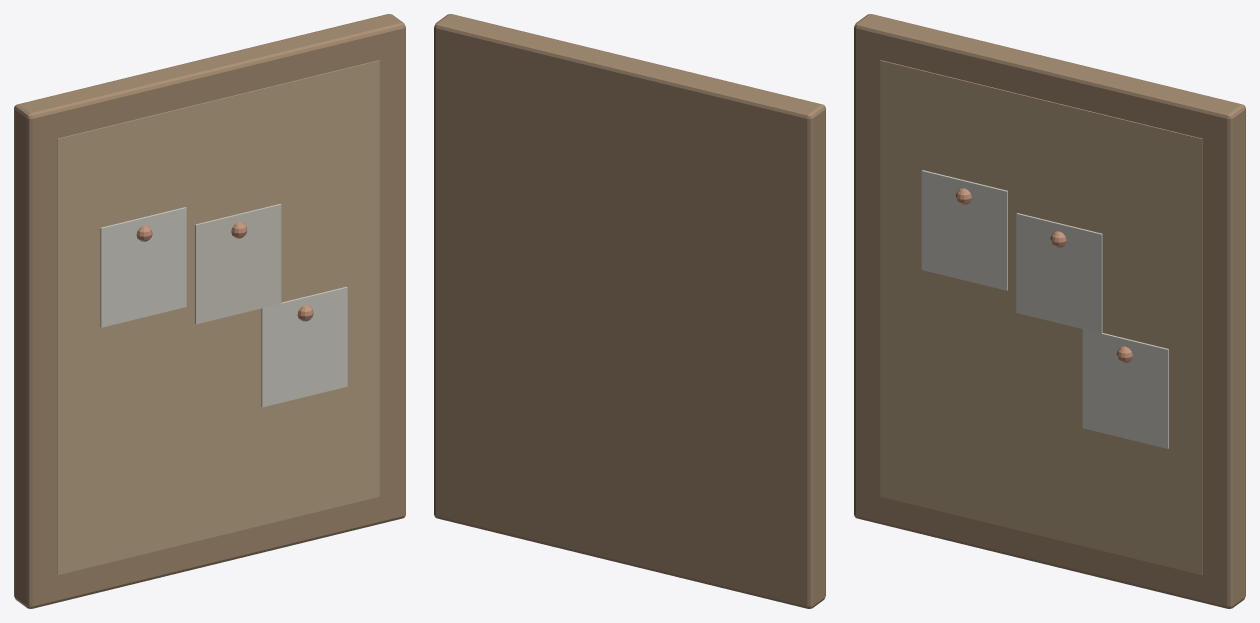
The model's file is office_quadro_avisos_coz.glb.
3 renders of one model, left to right at view 1: azimuth 30°, elevation 25°; view 2: azimuth 150°, elevation 25°; view 3: azimuth 330°, elevation 25°, orthographic.
Visible parts, largest first — view 1: OFFICE_QuadroAvisosCoz_Cortica, OFFICE_QuadroAvisosCoz_Moldura, OFFICE_QuadroAvisosCoz_Bilhete0, OFFICE_QuadroAvisosCoz_Bilhete1, OFFICE_QuadroAvisosCoz_Bilhete2; view 2: OFFICE_QuadroAvisosCoz_Moldura; view 3: OFFICE_QuadroAvisosCoz_Cortica, OFFICE_QuadroAvisosCoz_Moldura, OFFICE_QuadroAvisosCoz_Bilhete0, OFFICE_QuadroAvisosCoz_Bilhete1, OFFICE_QuadroAvisosCoz_Bilhete2.
Part boxes in pixels (x1,y1,x2,y2): OFFICE_QuadroAvisosCoz_Cortica: (57, 60, 379, 574); OFFICE_QuadroAvisosCoz_Moldura: (14, 14, 405, 608); OFFICE_QuadroAvisosCoz_Bilhete0: (100, 207, 186, 327); OFFICE_QuadroAvisosCoz_Bilhete1: (195, 204, 281, 324); OFFICE_QuadroAvisosCoz_Bilhete2: (261, 286, 347, 407); OFFICE_QuadroAvisosCoz_Moldura: (434, 14, 825, 608); OFFICE_QuadroAvisosCoz_Cortica: (880, 60, 1202, 574); OFFICE_QuadroAvisosCoz_Moldura: (854, 14, 1245, 608); OFFICE_QuadroAvisosCoz_Bilhete0: (921, 170, 1007, 290); OFFICE_QuadroAvisosCoz_Bilhete1: (1016, 213, 1102, 333); OFFICE_QuadroAvisosCoz_Bilhete2: (1082, 329, 1168, 448).
Bounding box in the file's own units: 0.4 × 0.5 × 0.041.
